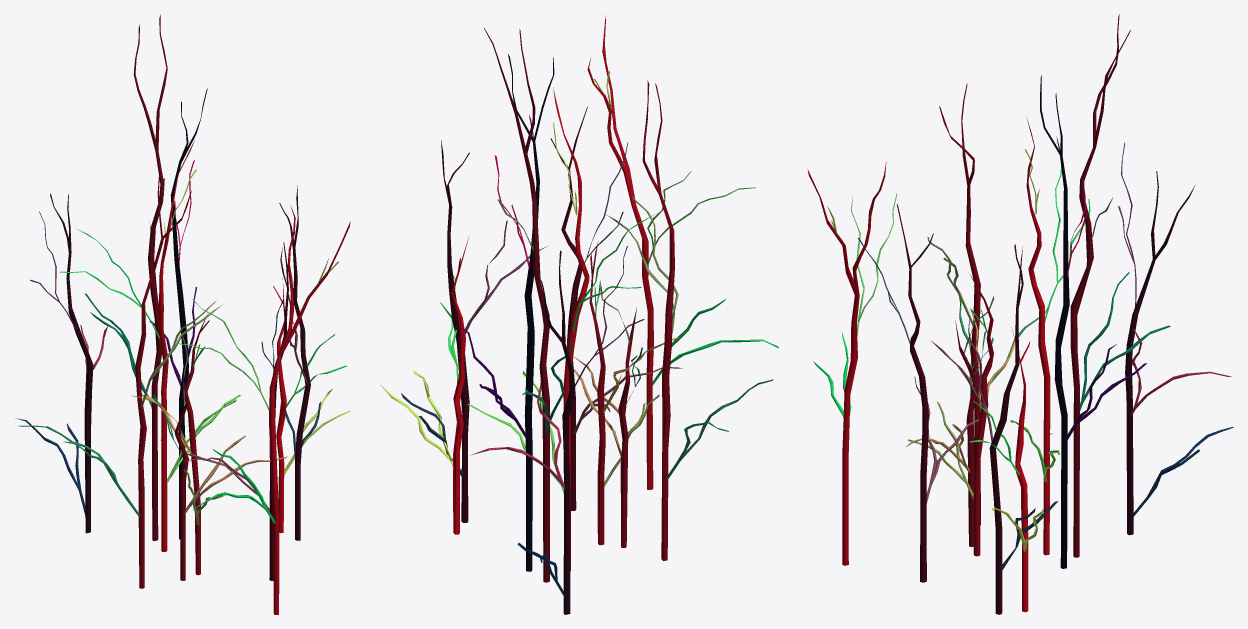
Rendered from Sm_SpikeTree_14.FBX.
The picture shows the model from 3 angles, left to right: view 1: azimuth 30°, elevation 25°; view 2: azimuth 150°, elevation 25°; view 3: azimuth 270°, elevation 25°; orthographic projection. The views are drawn at different scales.
Visible parts, largest first — view 1: Sm_SpikeTree_14; view 2: Sm_SpikeTree_14; view 3: Sm_SpikeTree_14.
Boxes of the visible parts, <box> form: Sm_SpikeTree_14: <box>15,14,350,614</box>; Sm_SpikeTree_14: <box>380,15,778,614</box>; Sm_SpikeTree_14: <box>807,14,1233,614</box>.
Size of what is drawn, in the model's own units: 412 by 447 by 630.
